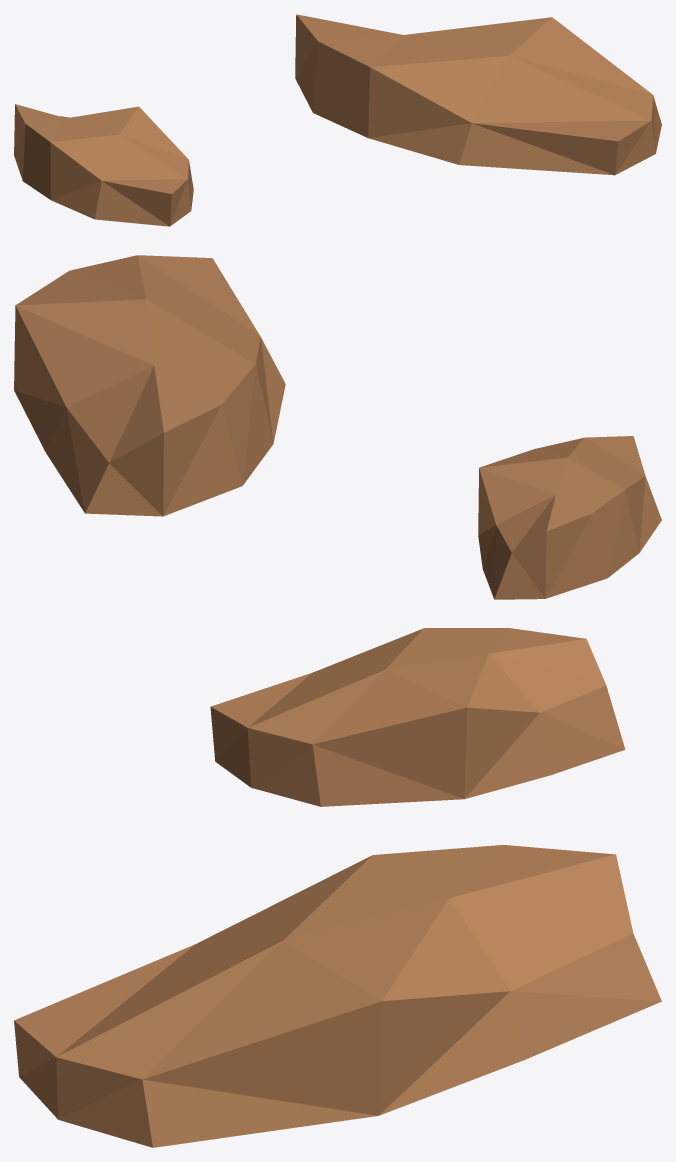
Rendered from Rocks_3.fbx.
3 renders of one model, top to bottom at view 1: azimuth 30°, elevation 25°; view 2: azimuth 150°, elevation 25°; view 3: azimuth 270°, elevation 25°, orthographic. The views are drawn at different scales.
Visible parts, largest first — view 1: Rocks_3; view 2: Rocks_3; view 3: Rocks_3.
Part boxes in pixels (x1,y1,x2,y2): Rocks_3: (14, 14, 661, 226); Rocks_3: (14, 255, 661, 599); Rocks_3: (14, 628, 661, 1147).
Bounding box in the file's own units: 197 × 123 × 23.98.
